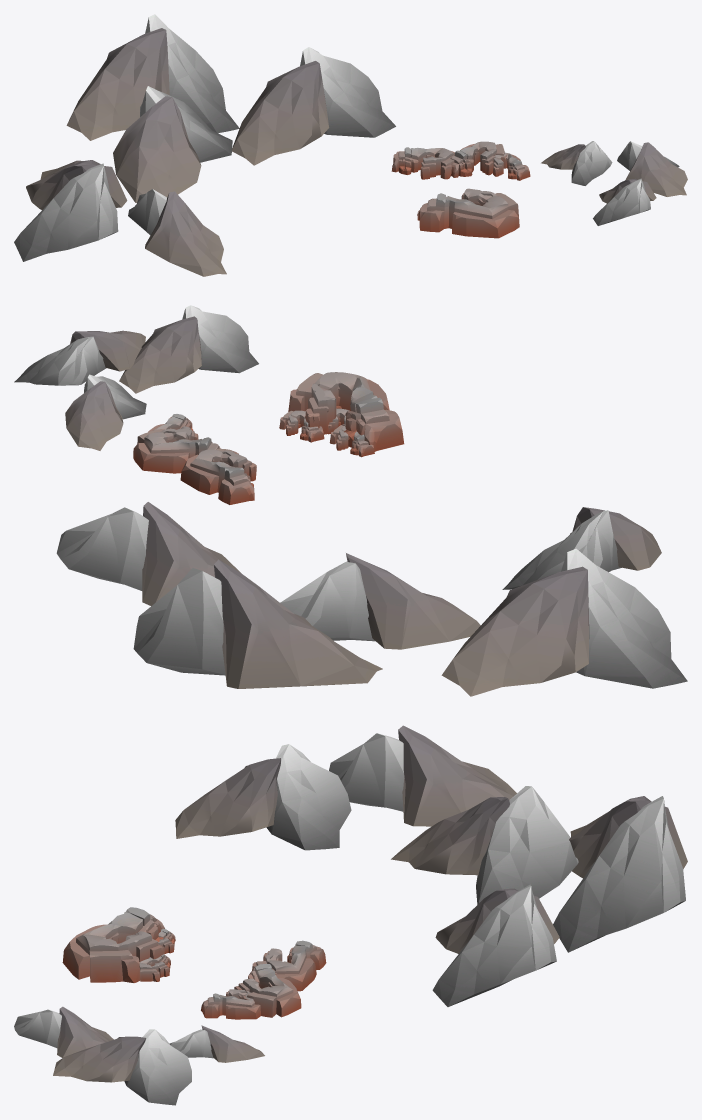
The picture shows the model from 3 angles, top to bottom: view 1: azimuth 30°, elevation 25°; view 2: azimuth 150°, elevation 25°; view 3: azimuth 270°, elevation 25°; orthographic projection. The views are drawn at different scales.
Parts seen in each view (by area): view 1: DoubleRockShape (5), DoubleRockShape (4), DoubleRockShape (3), DoubleRockShape (1), DoubleRockShape (2), QubicRocks1, DoubleRockShape (6), DoubleRockShape (8), DoubleRockShape (7), QubicRocks1 (6), QubicRocks1 (5), QubicRocks1 (4); view 2: DoubleRockShape (1), DoubleRockShape (4), DoubleRockShape (3), DoubleRockShape (5), DoubleRockShape (8), QubicRocks1, DoubleRockShape (2), DoubleRockShape (6), DoubleRockShape (7), QubicRocks1 (6), QubicRocks1 (5), QubicRocks1 (2) (+1 smaller); view 3: DoubleRockShape (4), DoubleRockShape (3), DoubleRockShape (2), DoubleRockShape (1), DoubleRockShape (5), DoubleRockShape (6), QubicRocks1, DoubleRockShape (8), QubicRocks1 (5), DoubleRockShape (7), QubicRocks1 (6), QubicRocks1 (4) (+1 smaller).
Part boxes in pixels (x1,y1,x2,y2): DoubleRockShape (5): [232, 47, 395, 165]; DoubleRockShape (4): [66, 14, 239, 140]; DoubleRockShape (3): [113, 86, 232, 202]; DoubleRockShape (1): [14, 160, 127, 261]; DoubleRockShape (2): [128, 189, 226, 276]; QubicRocks1: [419, 188, 519, 238]; DoubleRockShape (6): [617, 141, 687, 196]; DoubleRockShape (8): [593, 178, 656, 225]; DoubleRockShape (7): [541, 141, 612, 185]; QubicRocks1 (6): [391, 147, 454, 179]; QubicRocks1 (5): [450, 141, 507, 177]; QubicRocks1 (4): [493, 152, 530, 180]; DoubleRockShape (1): [441, 548, 687, 696]; DoubleRockShape (4): [133, 559, 382, 688]; DoubleRockShape (3): [280, 553, 480, 649]; DoubleRockShape (5): [56, 502, 241, 605]; DoubleRockShape (8): [119, 305, 258, 393]; QubicRocks1: [288, 372, 404, 451]; DoubleRockShape (2): [502, 507, 661, 589]; DoubleRockShape (6): [14, 330, 145, 385]; DoubleRockShape (7): [65, 374, 146, 450]; QubicRocks1 (6): [180, 448, 256, 504]; QubicRocks1 (5): [133, 429, 221, 473]; QubicRocks1 (2): [279, 410, 324, 442]; DoubleRockShape (4): [553, 796, 687, 952]; DoubleRockShape (3): [391, 786, 578, 904]; DoubleRockShape (2): [175, 744, 351, 850]; DoubleRockShape (1): [329, 725, 516, 826]; DoubleRockShape (5): [432, 884, 559, 1006]; DoubleRockShape (6): [53, 1029, 191, 1105]; QubicRocks1: [62, 907, 164, 982]; DoubleRockShape (8): [14, 1006, 113, 1057]; QubicRocks1 (5): [234, 963, 301, 1017]; DoubleRockShape (7): [169, 1025, 264, 1062]; QubicRocks1 (6): [252, 940, 326, 991]; QubicRocks1 (4): [201, 989, 260, 1019].
Bounding box in the file's own units: 150 × 26.64 × 122.
Materials: 1 (1 with a texture image).
